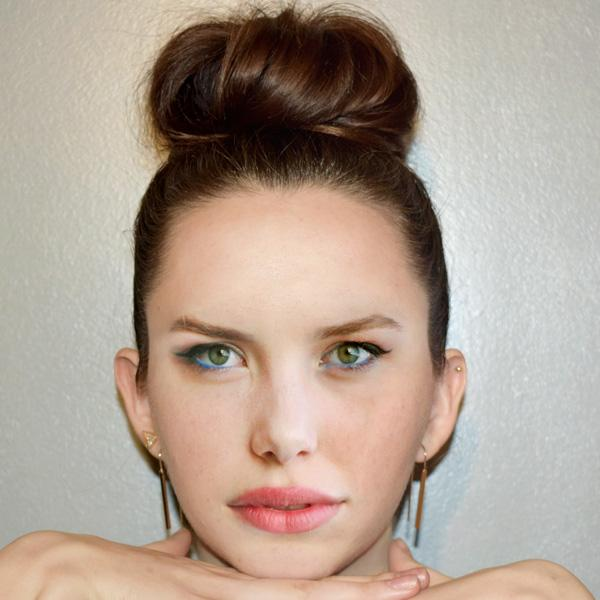Eyes: (170, 331, 254, 384), (311, 334, 394, 384)
